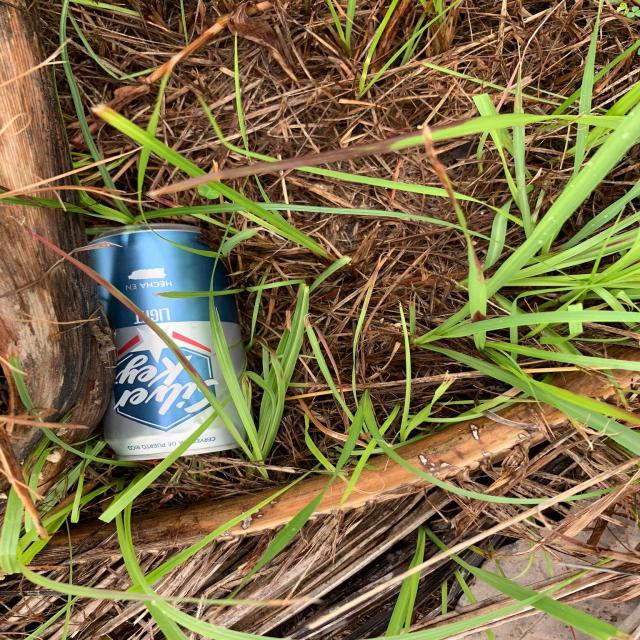litter: (87, 225, 248, 461)
